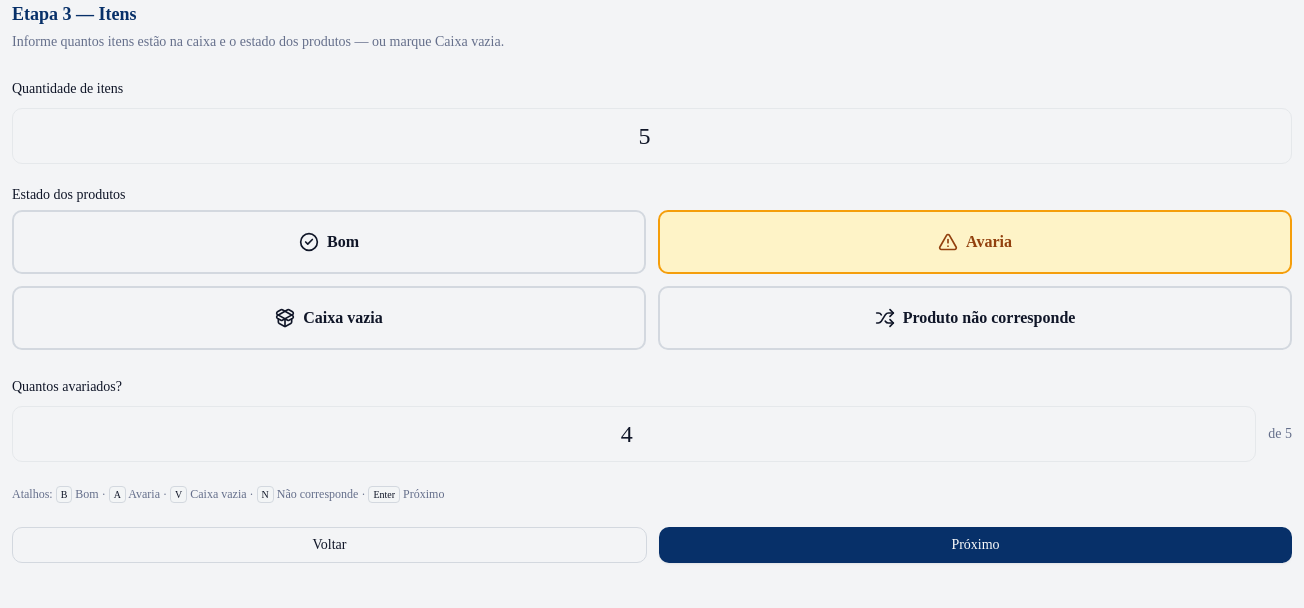
it: StepItemCount — Etapa 3 (Itens) › diminuir a quantidade abaixo dos avariados bloqueia o avanço
Replace the text in the number field labelled "Quantidade de itens" with "3" at [652, 136], box [12,108,1292,164]
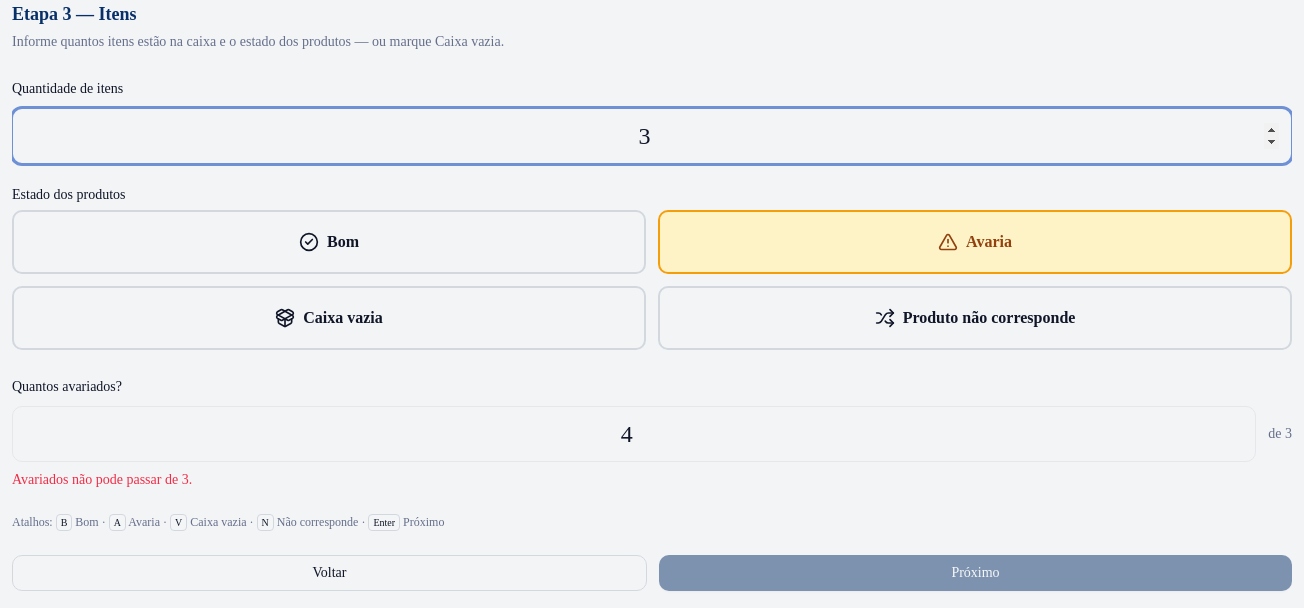
Now the button "Próximo" is disabled, box [659,555,1292,591]
Now the text "Avariados não pode passar de 3." is shown, box [12,472,192,487]
